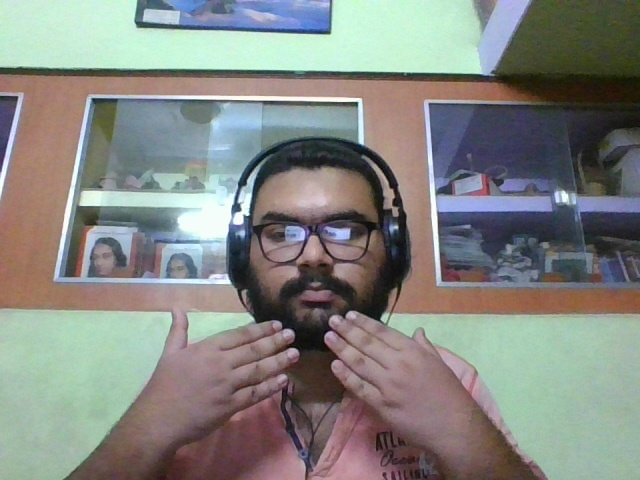thankyou: (114, 309, 514, 462)
